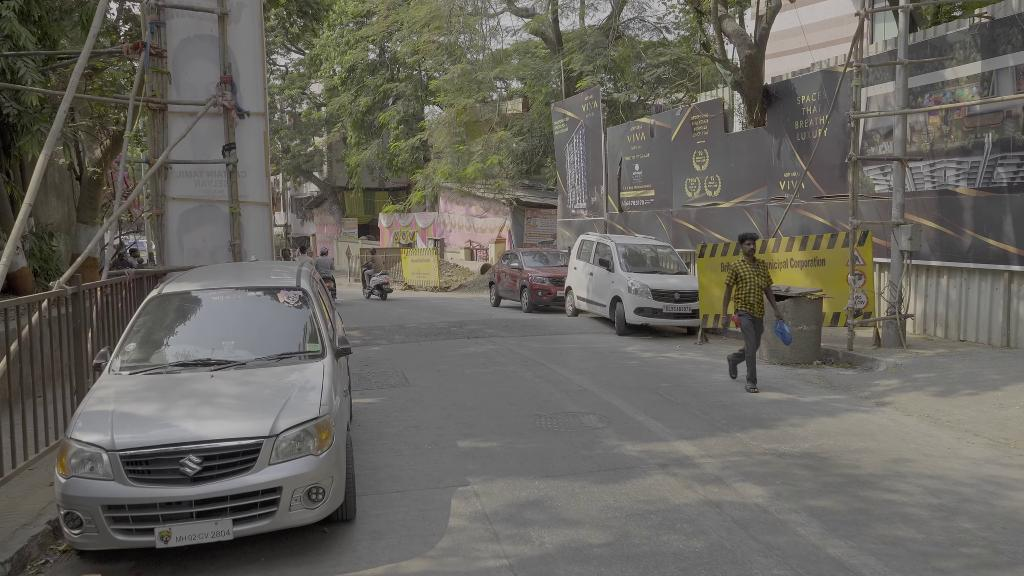garbage: (771, 317, 796, 349)
